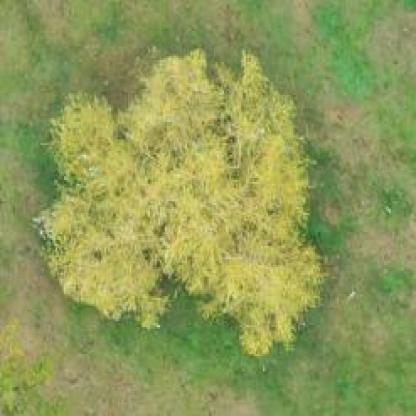Deciduous Tree: (28, 43, 328, 368)
